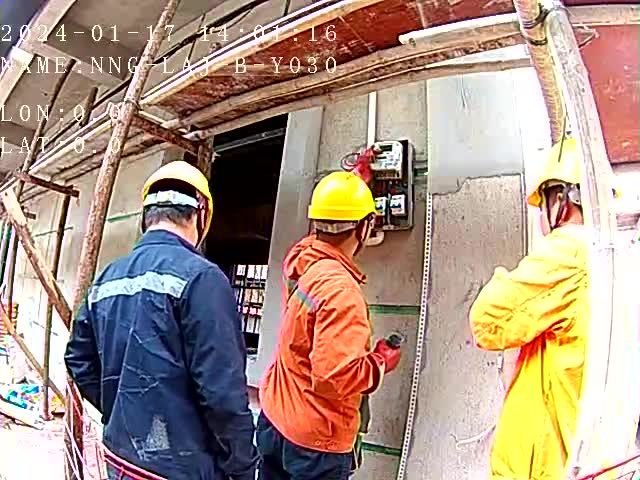halt: (140, 164, 216, 250), (309, 174, 381, 250), (527, 161, 587, 235)
inear: (541, 186, 576, 229), (354, 218, 375, 252)
